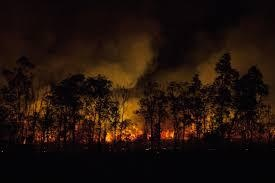fire: (160, 127, 174, 139)
